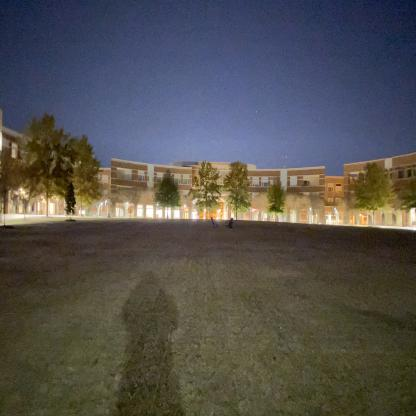eb2: (110, 146, 324, 230)
